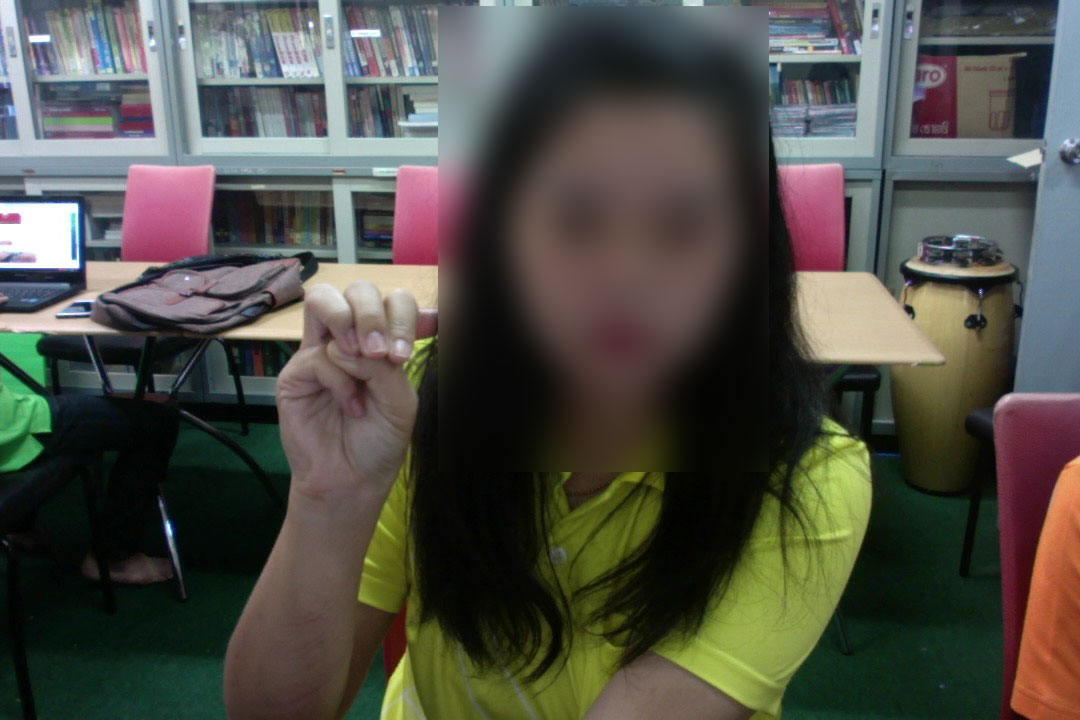mor: (274, 270, 424, 512)
